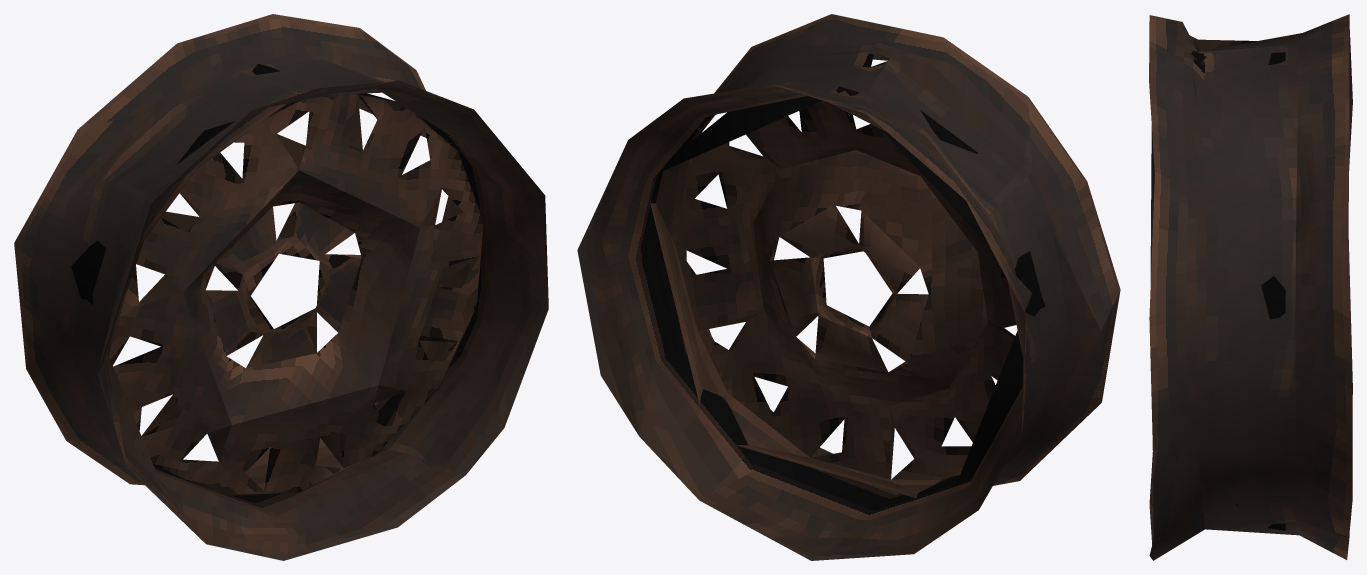
The model's file is rusted_wheel_rim_01.glb.
The picture shows the model from 3 angles, left to right: view 1: azimuth 30°, elevation 25°; view 2: azimuth 150°, elevation 25°; view 3: azimuth 270°, elevation 25°; orthographic projection. The views are drawn at different scales.
Visible parts, largest first — view 1: rusted_wheel_rim_01; view 2: rusted_wheel_rim_01; view 3: rusted_wheel_rim_01.
Boxes of the visible parts, left/top/right/bottom form: rusted_wheel_rim_01: left=14, top=14, right=548, bottom=560; rusted_wheel_rim_01: left=577, top=14, right=1120, bottom=560; rusted_wheel_rim_01: left=1149, top=14, right=1352, bottom=560.
Bounding box in the file's own units: 0.4036 × 0.4006 × 0.1483.
1 material, 1 textured.
